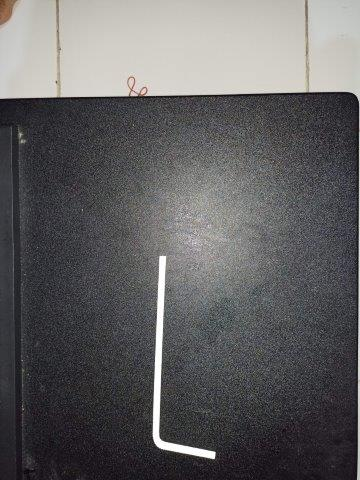karet: (127, 75, 148, 97)
sedotan: (152, 257, 216, 459)
